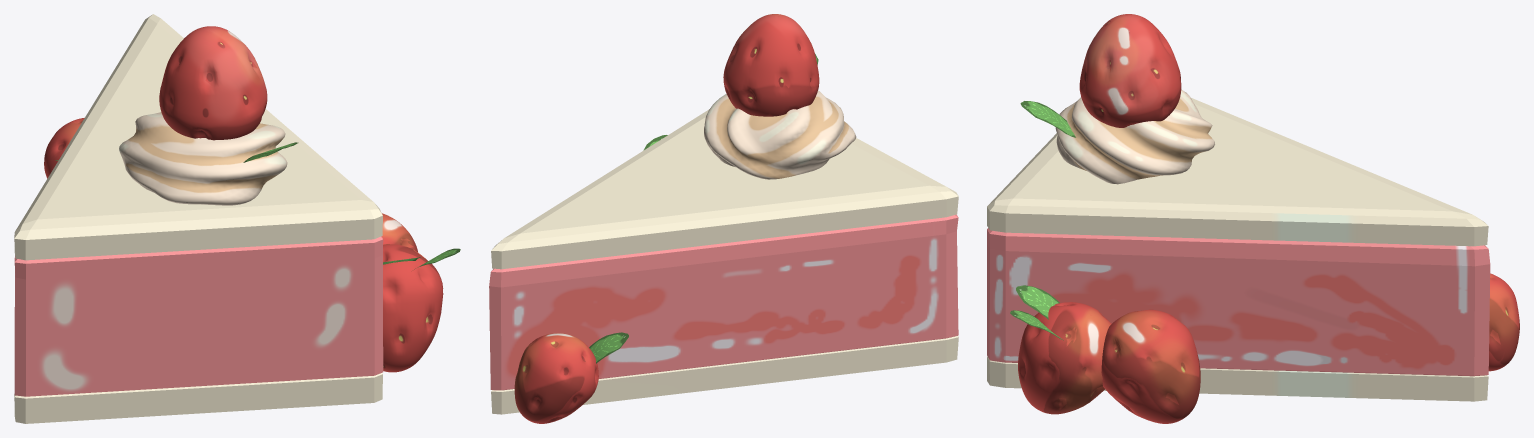
File: cake.fbx
3 views of the same model, side by side, from view 1: azimuth 30°, elevation 25°; view 2: azimuth 150°, elevation 25°; view 3: azimuth 270°, elevation 25° (orthographic). The views are drawn at different scales.
Parts seen in each view (by area): view 1: Sphere.006; view 2: Sphere.006; view 3: Sphere.006.
Part boxes in pixels (x1,y1,x2,y2): Sphere.006: (14, 14, 460, 423); Sphere.006: (489, 14, 958, 423); Sphere.006: (987, 14, 1519, 423).
Size of the model in its own units: 1811 by 1452 by 2138.
